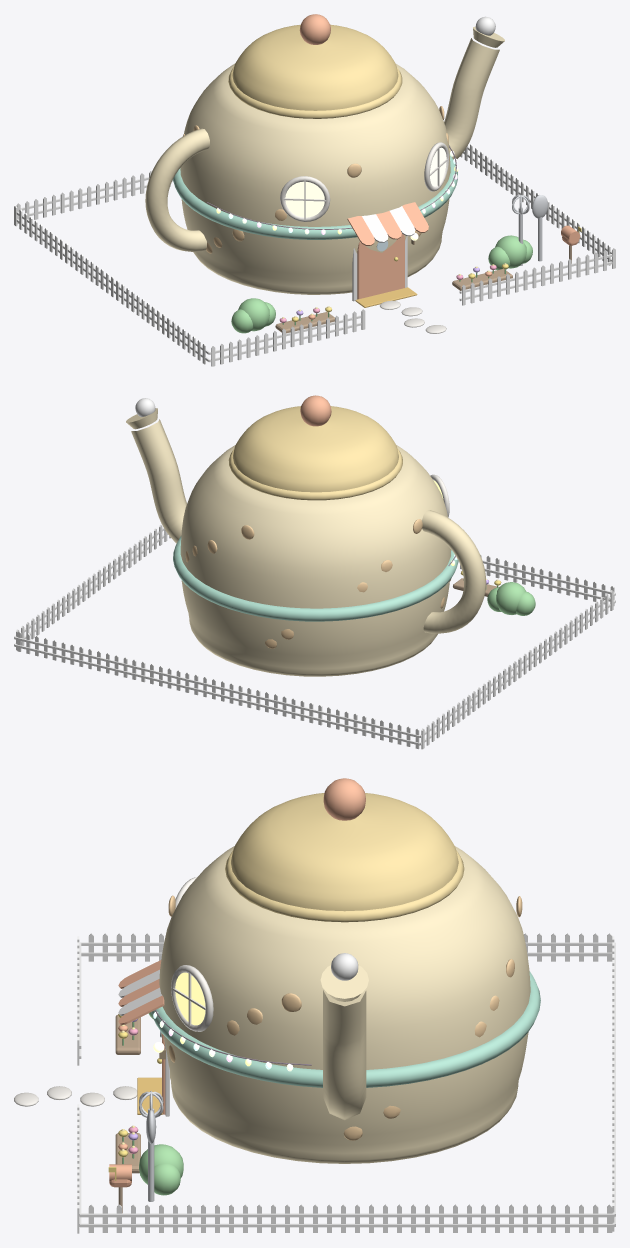
Rendered from building_kitchen_L09.glb.
3 views of the same model, one above another, from view 1: azimuth 30°, elevation 25°; view 2: azimuth 150°, elevation 25°; view 3: azimuth 270°, elevation 25° (orthographic). The views are drawn at different scales.
Visible parts, largest first — view 1: Body, kitchen_L9; view 2: Body, kitchen_L9; view 3: Body, kitchen_L9.
Boxes of the visible parts, box(x1,y1,x2,y2) form: Body: box(145, 14, 547, 307); kitchen_L9: box(14, 16, 615, 366); Body: box(126, 395, 486, 676); kitchen_L9: box(14, 398, 615, 749); Body: box(118, 778, 540, 1201); kitchen_L9: box(14, 933, 615, 1233).
Bounding box in the file's own units: 25.35 × 13.93 × 23.64.
